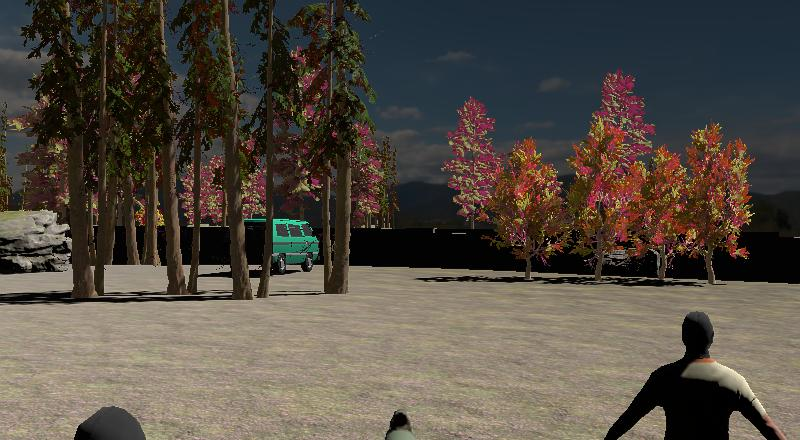Human: (580, 307, 800, 440), (586, 320, 800, 440)
car: (237, 217, 320, 274)
